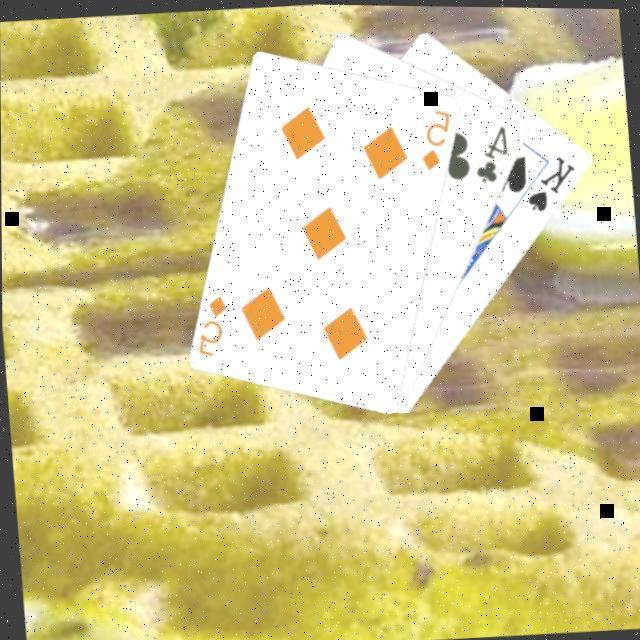4C: (471, 118, 516, 184)
5D: (192, 288, 235, 359), (416, 102, 459, 172)
KS: (522, 148, 584, 214)
